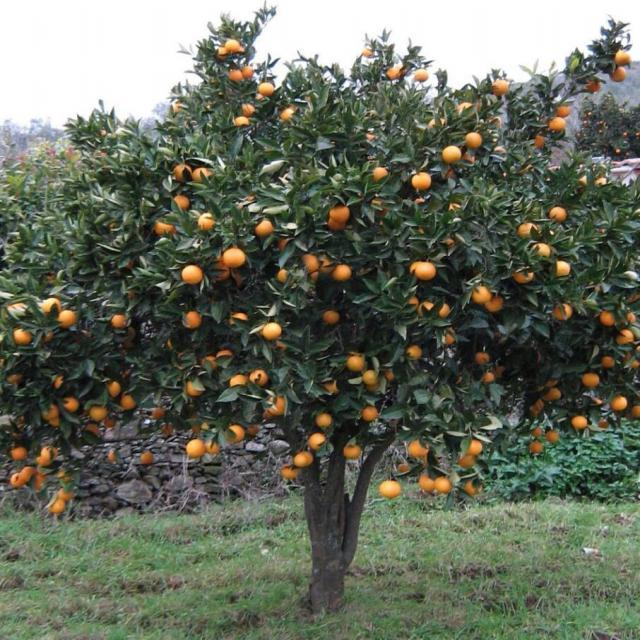Jeruk Sudah Matang: (264, 394, 291, 416), (184, 436, 207, 459), (54, 310, 80, 330), (220, 248, 246, 267), (180, 310, 206, 329), (331, 262, 354, 283), (378, 480, 402, 500), (224, 423, 246, 444), (408, 438, 430, 459), (195, 212, 218, 232), (12, 328, 35, 348), (180, 265, 204, 284), (328, 205, 352, 224), (518, 220, 540, 240), (418, 302, 438, 324), (409, 171, 432, 190), (192, 167, 215, 186), (597, 308, 619, 327), (469, 286, 492, 304), (300, 252, 320, 272), (442, 146, 462, 165), (512, 267, 534, 284), (546, 115, 568, 132), (415, 262, 435, 280), (103, 379, 123, 397), (61, 396, 81, 414), (571, 415, 591, 433), (434, 476, 452, 496), (174, 162, 192, 182), (46, 498, 66, 516), (616, 328, 634, 348), (531, 242, 552, 259), (292, 449, 313, 466), (549, 204, 568, 222), (262, 322, 282, 339), (342, 442, 362, 459), (172, 193, 192, 210), (254, 220, 274, 237), (228, 372, 248, 389), (542, 387, 563, 403), (360, 405, 378, 423), (110, 314, 128, 332), (250, 368, 268, 386), (554, 302, 572, 320), (552, 260, 570, 278), (610, 65, 628, 83), (309, 433, 328, 450), (466, 130, 482, 150), (56, 486, 76, 502), (464, 480, 484, 496), (582, 372, 600, 389), (466, 438, 484, 455), (322, 310, 341, 326), (185, 380, 204, 396), (40, 446, 59, 462), (18, 467, 38, 482), (346, 356, 364, 372), (386, 66, 404, 82), (198, 354, 214, 372), (238, 103, 258, 117), (228, 312, 248, 326), (610, 395, 626, 412), (494, 80, 511, 96), (216, 350, 233, 366), (316, 413, 334, 428), (90, 407, 108, 422), (406, 344, 423, 359), (371, 166, 388, 181), (10, 447, 28, 461), (258, 82, 276, 96), (120, 394, 136, 409), (9, 473, 25, 488), (476, 352, 493, 366), (556, 102, 573, 116), (362, 371, 380, 384), (224, 38, 240, 52), (599, 354, 615, 368), (279, 107, 294, 121), (415, 68, 429, 83), (228, 69, 244, 82), (232, 116, 249, 128), (242, 64, 256, 78), (140, 452, 155, 465), (545, 430, 558, 442), (530, 439, 542, 451), (631, 405, 640, 419)
